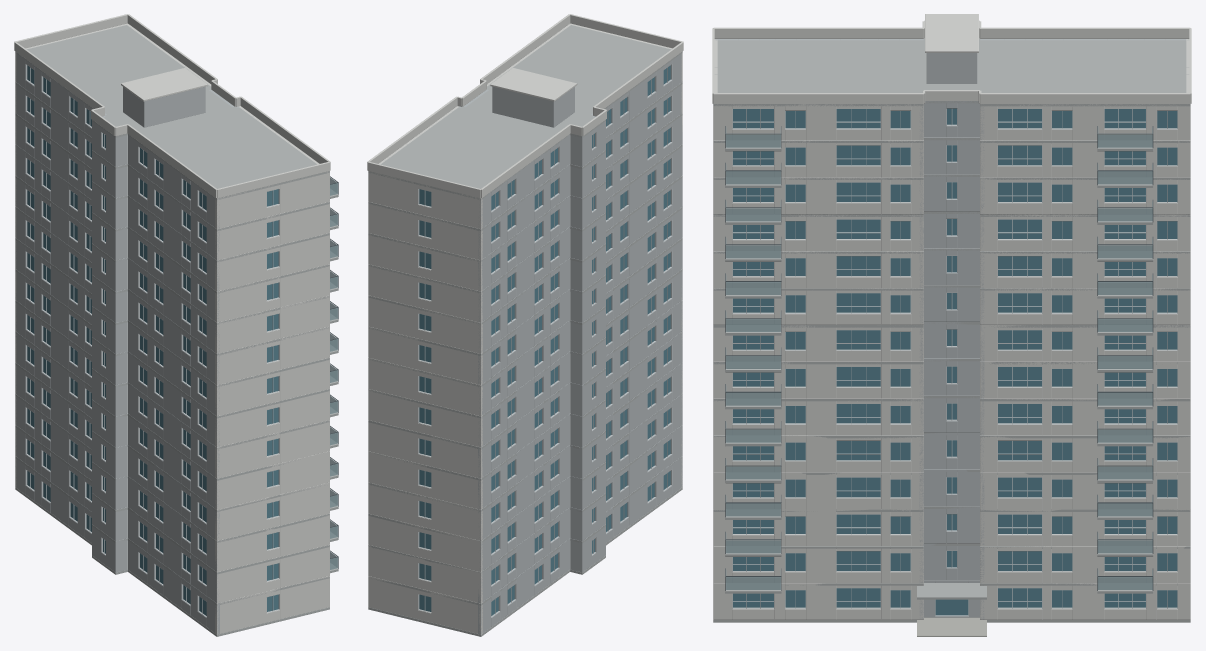
Rendered from APARTMENT_A_MIDRISE.fbx.
3 renders of one model, left to right at view 1: azimuth 30°, elevation 25°; view 2: azimuth 150°, elevation 25°; view 3: azimuth 270°, elevation 25°, orthographic. The views are drawn at different scales.
Visible parts, largest first — view 1: UNITY_ASSET_APARTMENT_A_MIDRISE; view 2: UNITY_ASSET_APARTMENT_A_MIDRISE; view 3: UNITY_ASSET_APARTMENT_A_MIDRISE.
Boxes of the visible parts, <box> form: UNITY_ASSET_APARTMENT_A_MIDRISE: <box>14,14,338,636</box>; UNITY_ASSET_APARTMENT_A_MIDRISE: <box>367,14,683,636</box>; UNITY_ASSET_APARTMENT_A_MIDRISE: <box>712,14,1191,636</box>.
Bounding box in the file's own units: 14.94 × 43.48 × 34.18.
